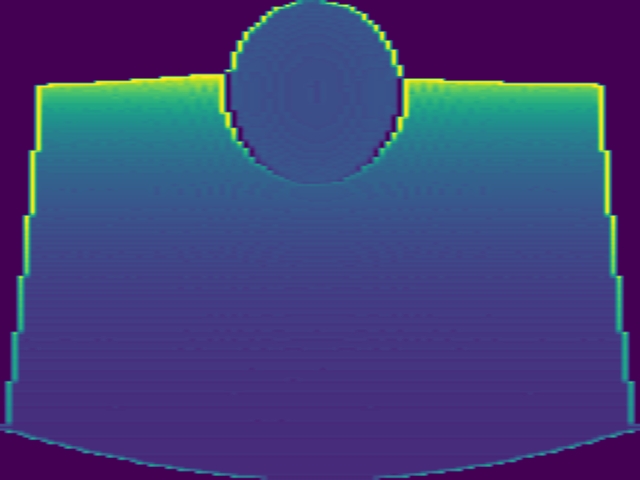sphere: (223, 1, 406, 186)
